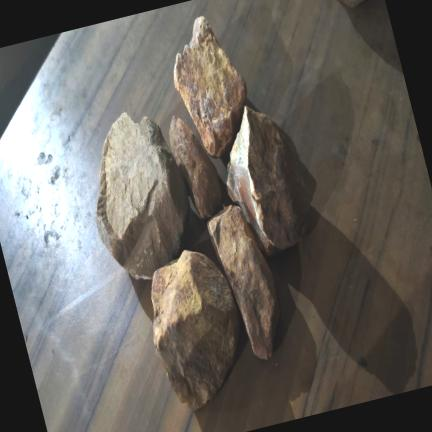Rocks: (96, 113, 188, 279), (151, 251, 238, 410), (227, 107, 308, 255), (207, 206, 278, 359), (173, 17, 246, 157), (169, 117, 220, 219), (339, 0, 363, 7)
